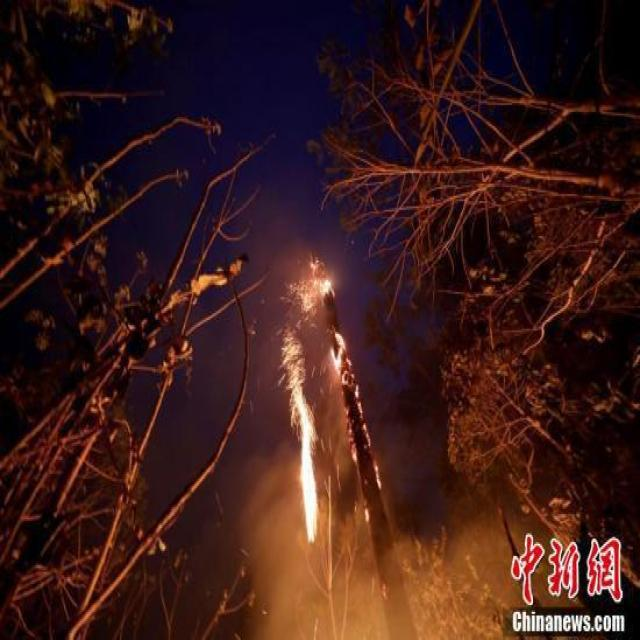Fire: (276, 263, 386, 537)
